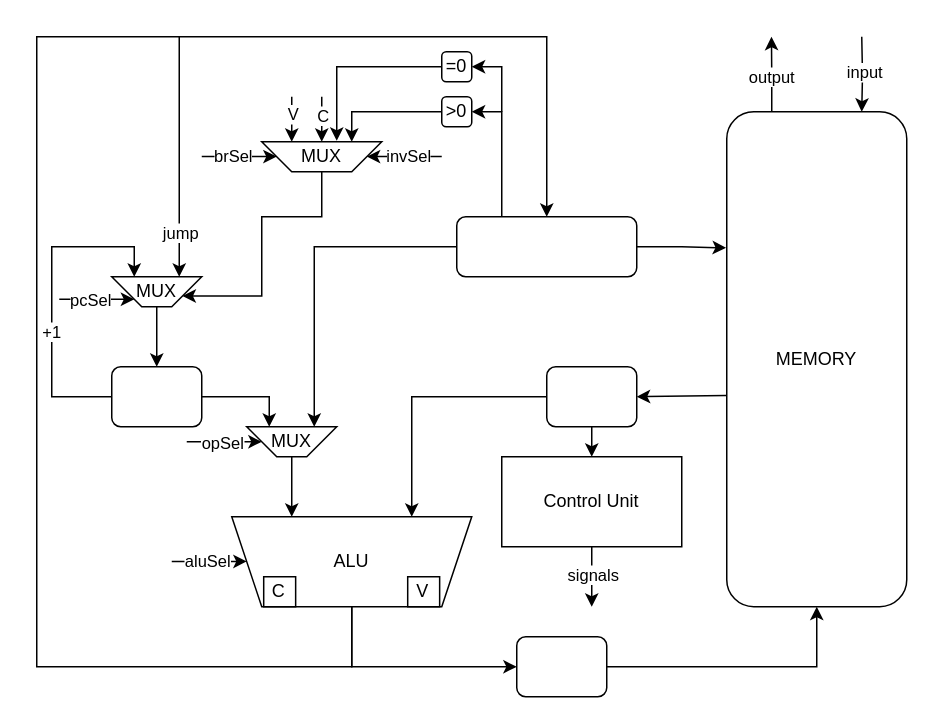
This 933x723 diagram has some shape labels left out. The shapes that lost their labels are listed below. From the top down, each one's centre as x and y in pixels, then its label:
At [546,246]: "ACC".
At [156,396]: "PC".
At [591,396]: "DR".
At [561,666]: "AR".
